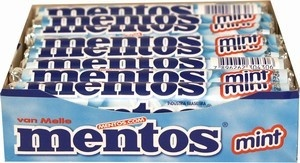grozi_43: (0, 0, 299, 163)
